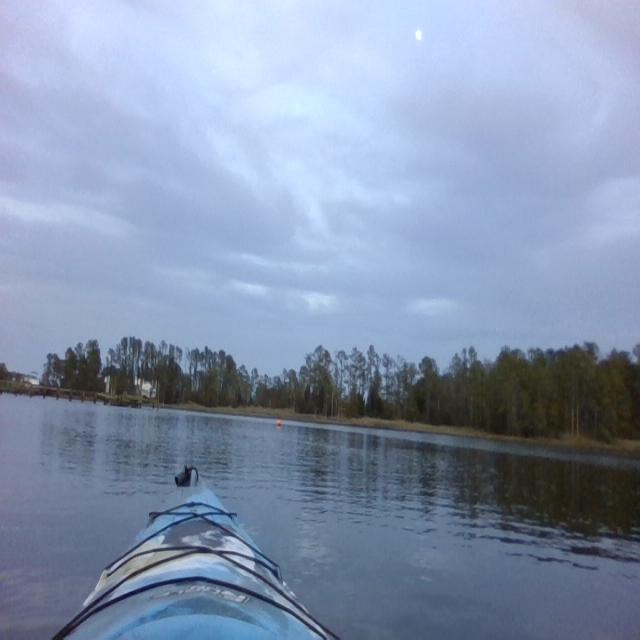Buoy: (277, 418, 284, 430)
